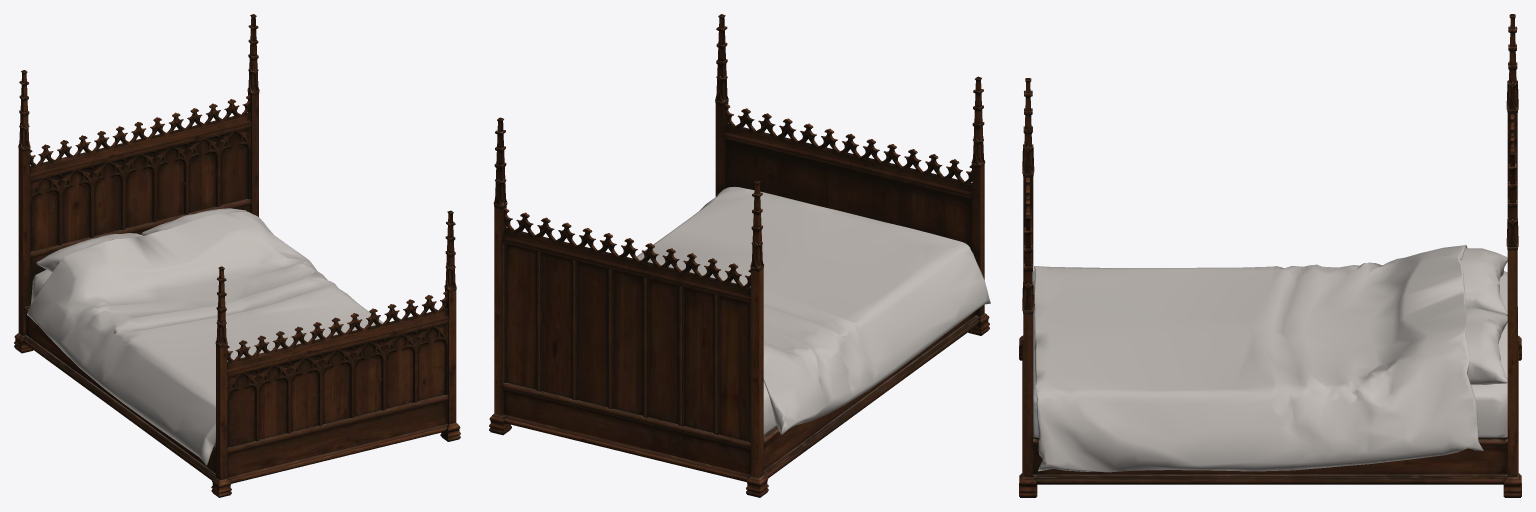
3 renders of one model, left to right at view 1: azimuth 30°, elevation 25°; view 2: azimuth 150°, elevation 25°; view 3: azimuth 270°, elevation 25°, orthographic. The views are drawn at different scales.
Parts seen in each view (by area): view 1: GothicBed_01; view 2: GothicBed_01; view 3: GothicBed_01.
Boxes of the visible parts, x1,y1,x2,y2 form: GothicBed_01: [14, 14, 460, 497]; GothicBed_01: [489, 14, 990, 497]; GothicBed_01: [1019, 14, 1521, 497].
Bounding box in the file's own units: 1.49 × 1.53 × 2.04.
1 material, 1 textured.
